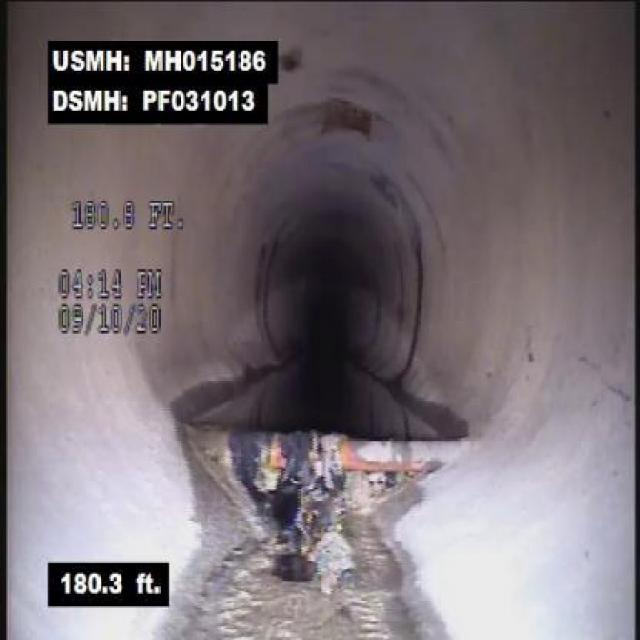Crack: (564, 352, 634, 406)
Utility intrusion: (178, 424, 484, 478)
